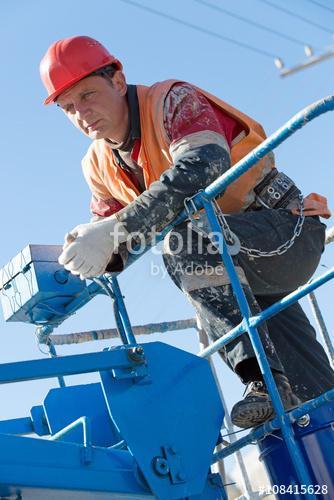helmet: (41, 34, 126, 109)
